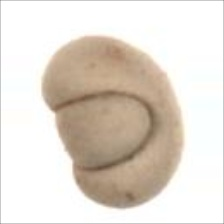L5: (52, 89, 160, 173)
L6: (37, 33, 185, 210)
